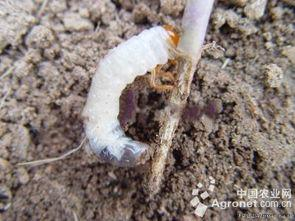grub: (78, 20, 178, 171)
